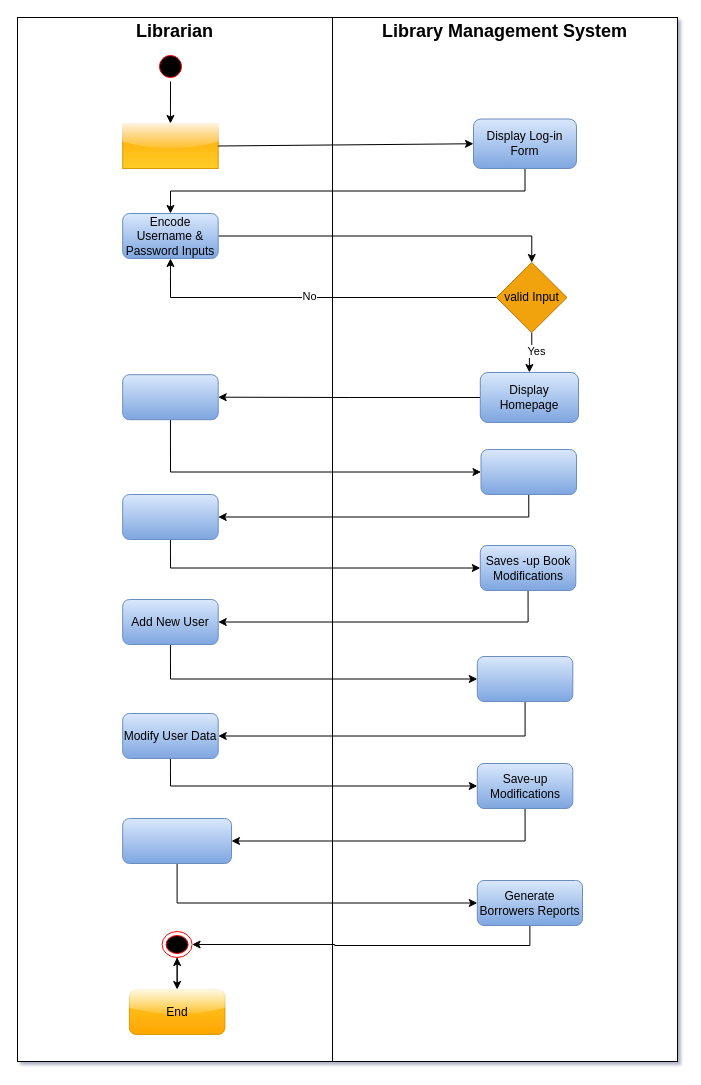
Image size: 701x1085. Some labels were removed from this diagram. The shapes that lost their labels are listed below. From the top down, each one's centre as x and y in pixels, then its label:
At (x=170, y=145): "Start".
At (x=170, y=397): "Add New Books".
At (x=528, y=471): "Saves-up New Data".
At (x=170, y=517): "Modify Book Information".
At (x=524, y=679): "Saves-up New User".
At (x=177, y=841): "Request Borrowers Report".
